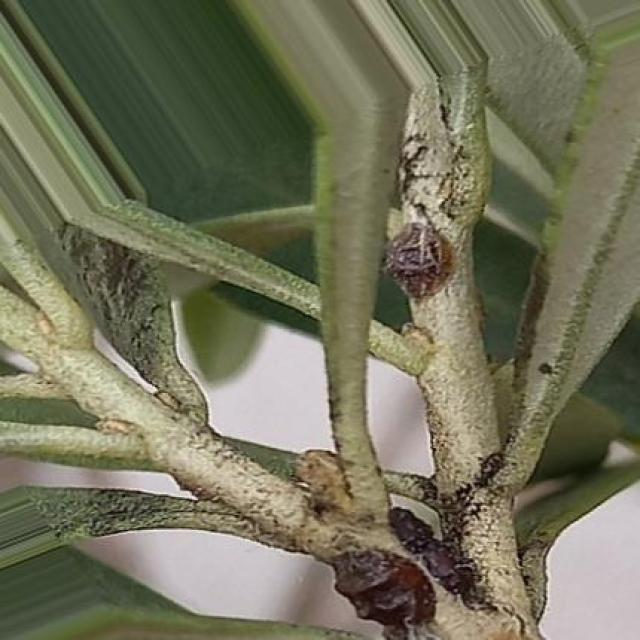Black Scale: (327, 549, 435, 639), (383, 222, 452, 299)
